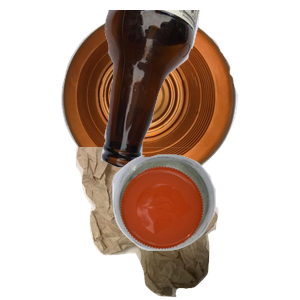glass: (99, 10, 300, 170)
metal: (58, 10, 289, 186)
plastic: (110, 152, 300, 300)
trash: (73, 147, 300, 300)
